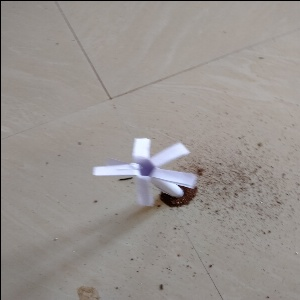weed: (92, 128, 202, 206)
